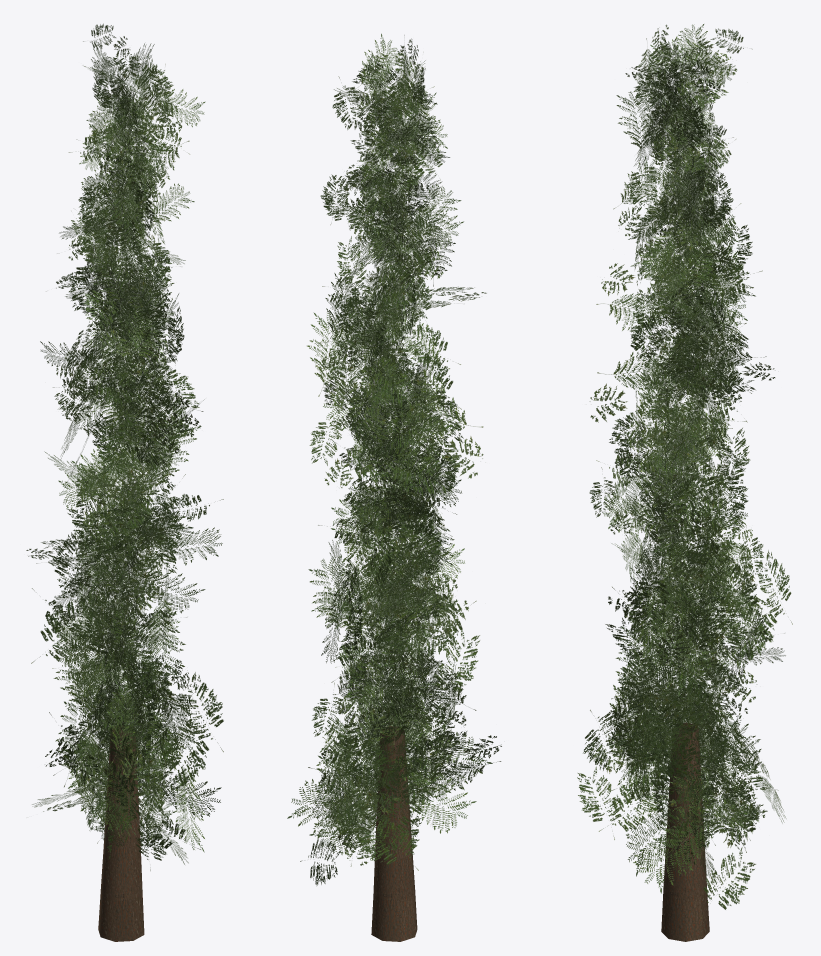
The model's file is cypress_2.glb.
3 renders of one model, left to right at view 1: azimuth 30°, elevation 25°; view 2: azimuth 150°, elevation 25°; view 3: azimuth 270°, elevation 25°, orthographic.
Visible parts, largest first — view 1: cypress; view 2: cypress; view 3: cypress.
Part boxes in pixels (x1,y1,x2,y2): cypress: (26, 23, 223, 941); cypress: (287, 33, 501, 941); cypress: (577, 24, 792, 941).
Size of the model in its own units: 2.83 by 12.58 by 3.11.
2 materials, 2 textured.
